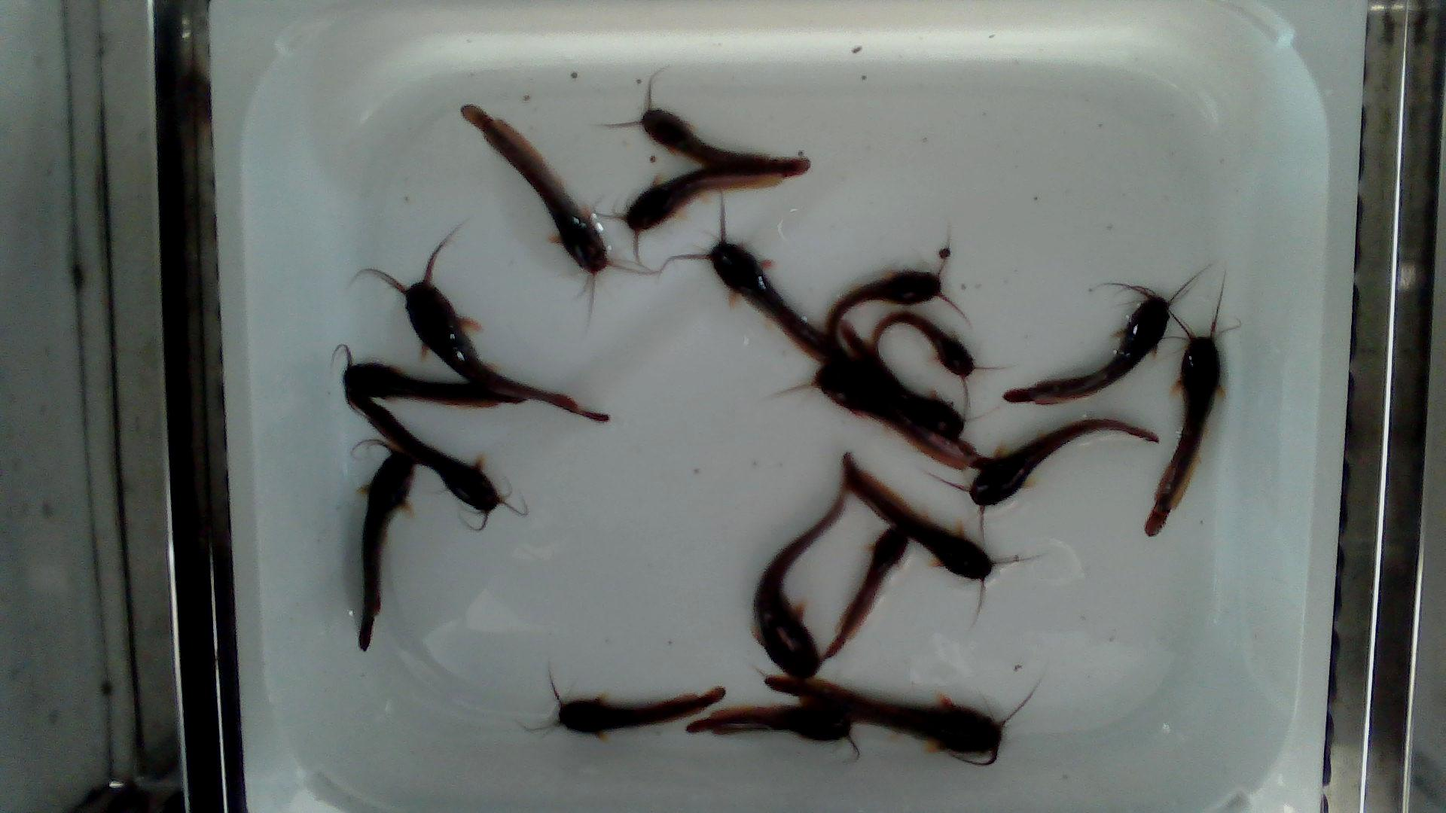lele: (345, 226, 612, 423), (844, 456, 1041, 627), (656, 189, 844, 361), (918, 419, 1158, 549), (1004, 264, 1206, 405), (349, 397, 531, 533), (461, 106, 609, 273), (767, 677, 1045, 765), (769, 360, 976, 470), (1145, 274, 1225, 537), (754, 493, 843, 676), (825, 233, 974, 337), (523, 660, 725, 734), (840, 319, 963, 440), (351, 436, 414, 650), (330, 342, 525, 407), (641, 108, 808, 175), (823, 527, 908, 658), (624, 167, 781, 229), (686, 701, 851, 741), (872, 312, 972, 372)
